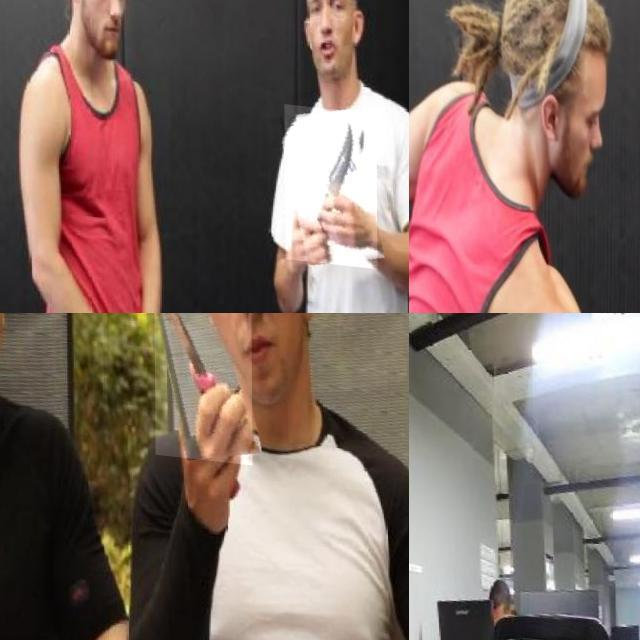-: (284, 95, 377, 258), (153, 313, 251, 454)
